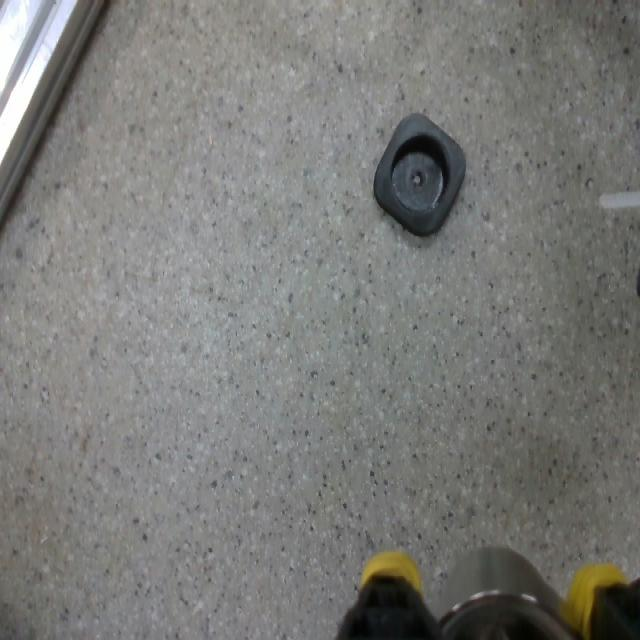cell: (372, 113, 467, 237)
